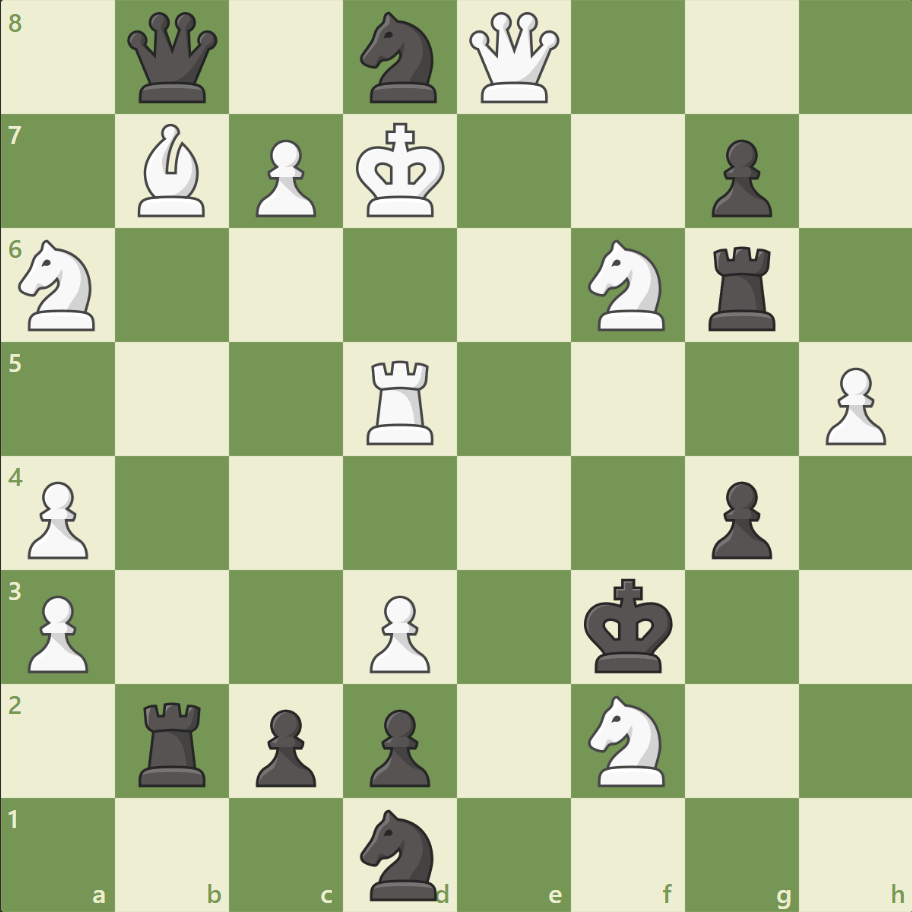B: (131, 120, 215, 222)
K: (351, 117, 451, 225)
N: (11, 234, 108, 337), (579, 234, 676, 337), (579, 688, 676, 791)
P: (247, 132, 322, 223), (20, 473, 95, 564), (20, 586, 95, 677), (815, 359, 889, 450), (361, 586, 435, 677)
Q: (464, 9, 563, 108)
R: (360, 352, 442, 449)
k: (579, 571, 679, 679)
n: (351, 7, 449, 110), (351, 802, 449, 904)
p: (701, 132, 776, 223), (701, 473, 776, 564), (247, 700, 322, 791), (361, 700, 435, 791)
q: (124, 9, 223, 108)
r: (700, 239, 783, 336), (133, 693, 215, 790)
